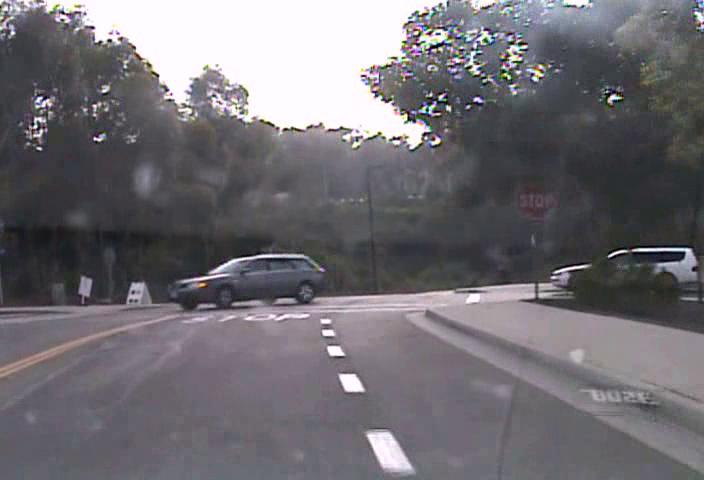stop: (514, 180, 556, 220)
